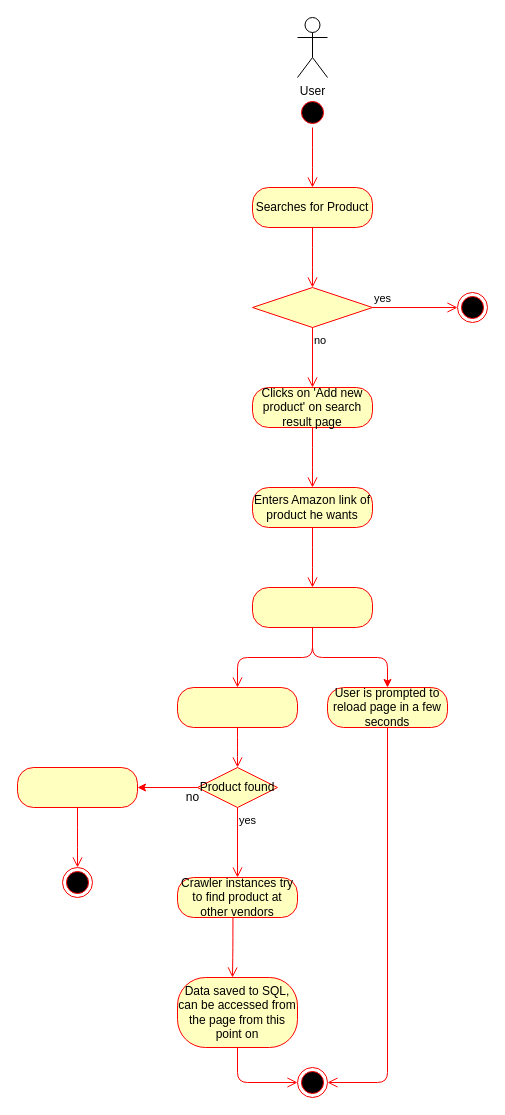
The diagram is 505 pixels wide and 1115 high, and some of its shapes have lost their labels. The centre of each missing label's shape, as x and y in pixels:
Clicks 'search': point 312,607
Crawler invoked, fetches data from Amazon: point 237,707
Finds what he is looking for?: point 312,307
Tell user that product could not be found at Amazon: point 77,787
